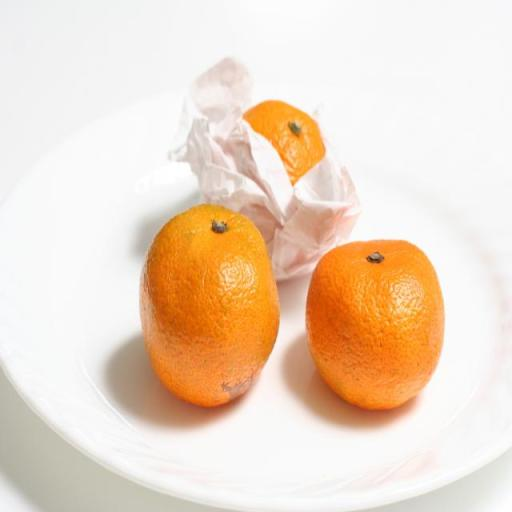fruit: (140, 205, 279, 406), (307, 240, 443, 409), (244, 100, 325, 184)
